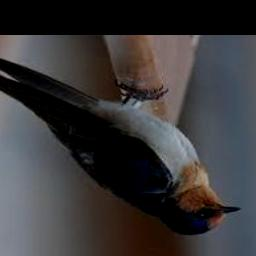Swallow: (0, 40, 241, 236)
